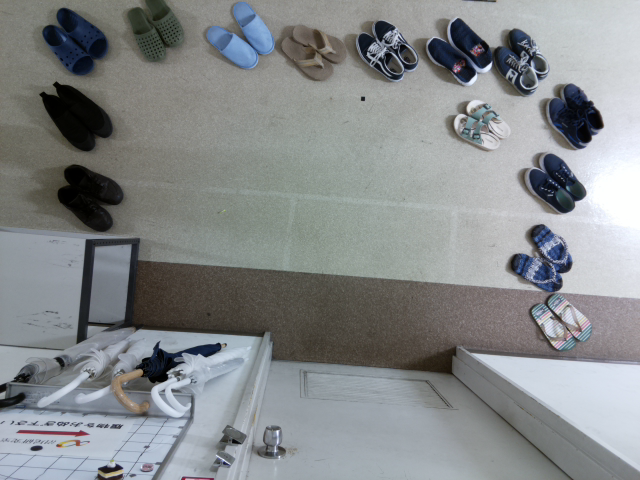Copy of Copy of Copy of Copy of Copy of Copy of Copy of Copy of Copy of Copy of: (523, 166, 577, 215), (559, 82, 606, 137), (546, 96, 593, 150), (537, 152, 588, 201), (495, 45, 540, 98), (506, 26, 550, 80)
Copy of Copy of Copy of Copy of Copy of Copy of Copy of Copy of Copy of shoes: (445, 17, 493, 72)
Copy of Copy of Copy of Copy of Copy of Copy of Copy of Copy of shoes: (426, 35, 476, 85)
Copy of Copy of Copy of Copy of Copy of Copy of Copy of sandal: (281, 35, 334, 80)
Copy of Copy of Copy of Copy of Copy of Copy of Copy of shoes: (371, 18, 419, 72)
Copy of Copy of Copy of Copy of Copy of Copy of sandal: (293, 23, 347, 61)
Copy of Copy of Copy of Copy of Copy of Copy of shoes: (355, 30, 405, 82)
Copy of Copy of Copy of Copy of Copy of sandal: (467, 99, 512, 138)
Copy of Copy of Copy of Copy of sandal: (453, 112, 500, 152)
Copy of Copy of Copy of Copy of slipper: (230, 1, 274, 57)
Copy of Copy of Copy of sandal: (531, 303, 574, 352)
Copy of Copy of Copy of shoes: (52, 81, 113, 138)
Copy of Copy of Copy of slipper: (204, 24, 260, 70)
Copy of Copy of sandal: (545, 293, 591, 342)
Copy of Copy of shoes: (39, 89, 93, 151)
Copy of Copy of slipper: (144, 1, 183, 47)
Copy of sandal: (511, 251, 564, 291)
Copy of shoes: (62, 163, 122, 204)
Copy of slipper: (128, 6, 164, 60)
sandal: (530, 222, 571, 272)
shoes: (56, 184, 113, 232)
slipper: (41, 22, 93, 75), (55, 5, 107, 58)
